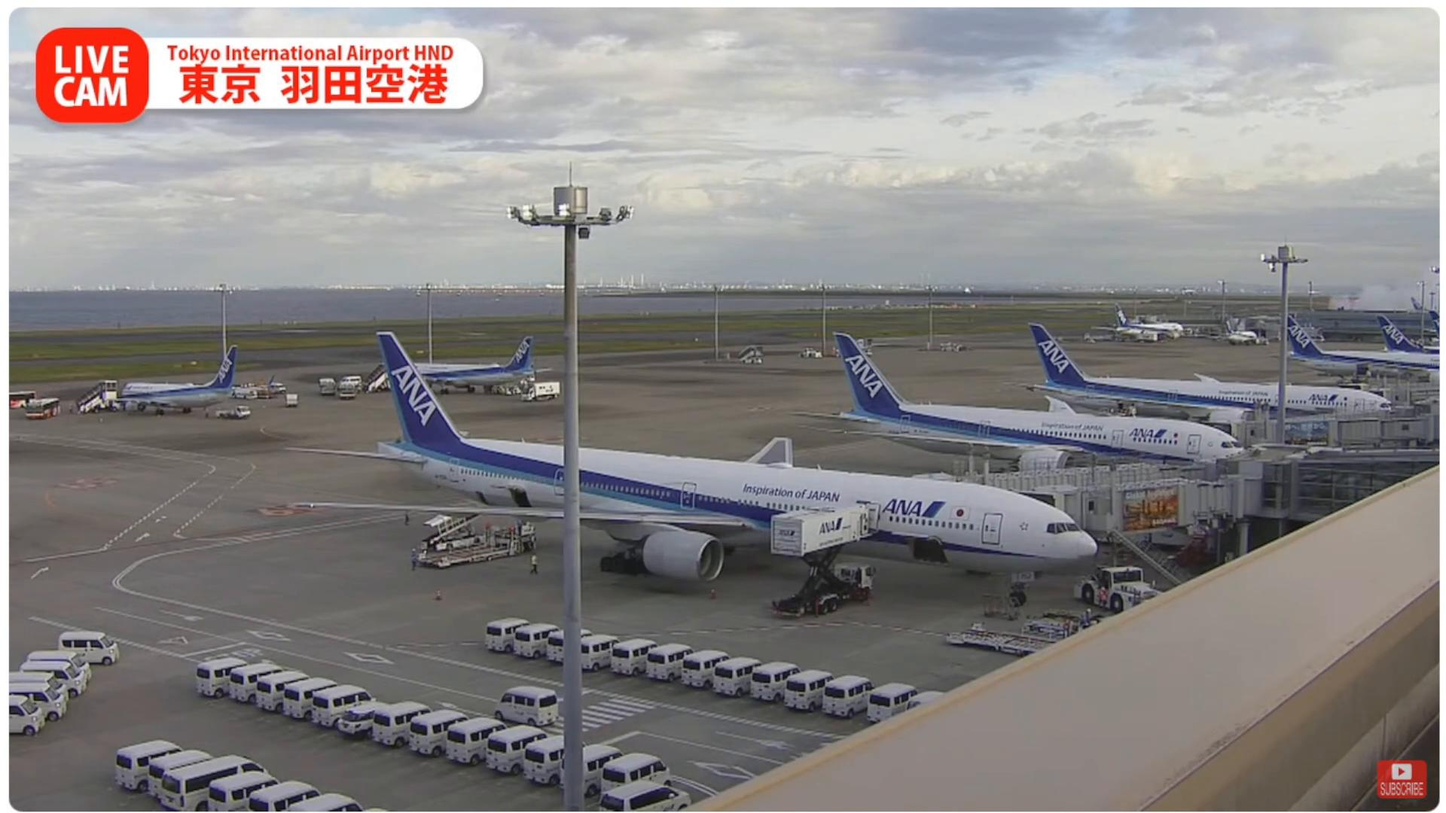APS: (1077, 565, 1167, 614)
Aerobridge: (937, 438, 1217, 490), (1025, 480, 1229, 535)
Airplane: (279, 328, 1098, 610)
Catering: (769, 505, 876, 620)
JCPL: (402, 511, 533, 572), (908, 637, 1025, 670), (960, 626, 1064, 652)
Skyloader: (417, 513, 486, 554)
Window: (1286, 455, 1435, 523)
